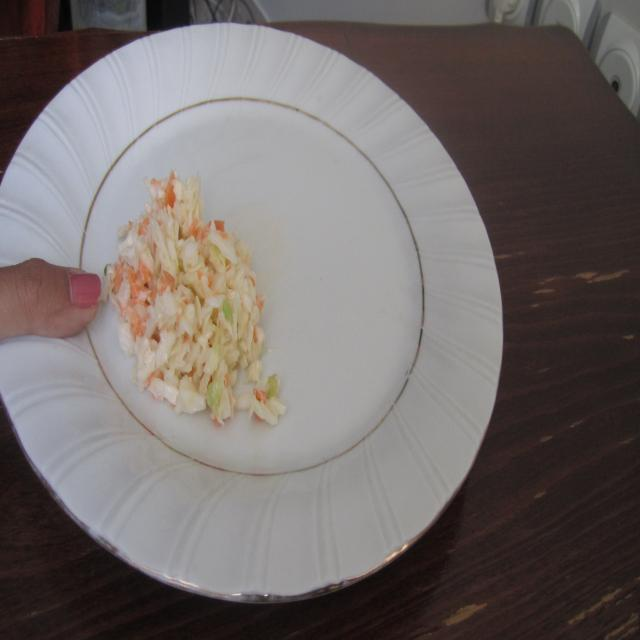vegatable salad: (101, 161, 293, 436)
